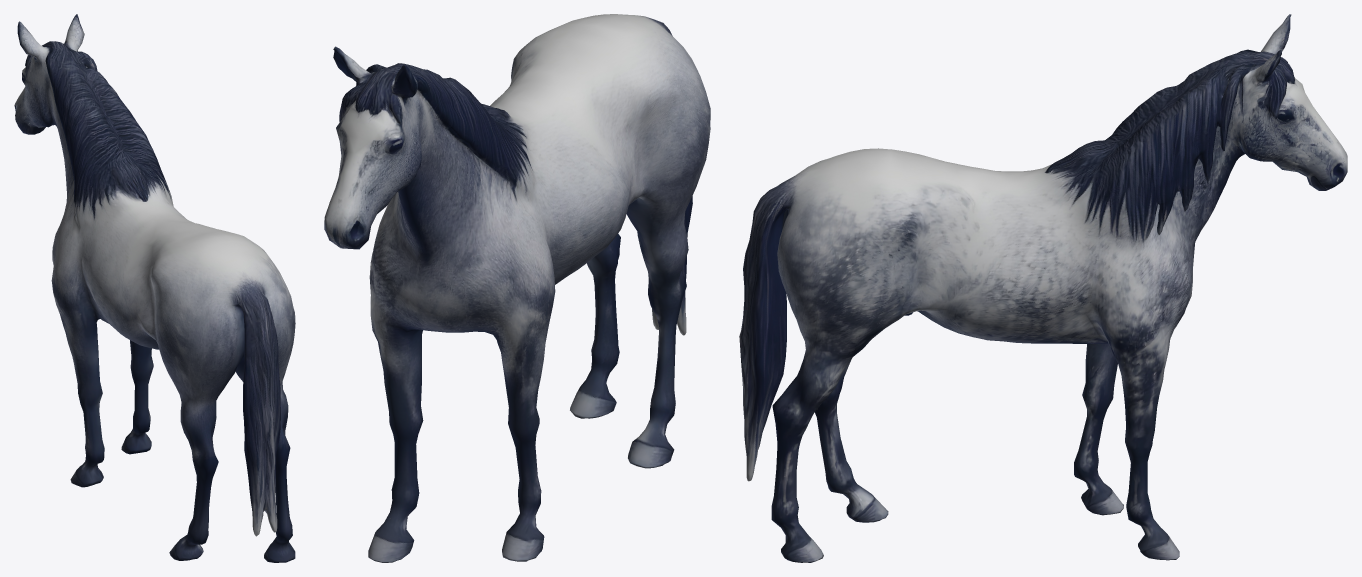
3 views of the same model, side by side, from view 1: azimuth 30°, elevation 25°; view 2: azimuth 150°, elevation 25°; view 3: azimuth 270°, elevation 25° (orthographic). The views are drawn at different scales.
Parts seen in each view (by area): view 1: tripo_node_4943546c-723b-4181-b05e-ca7a1a50546d; view 2: tripo_node_4943546c-723b-4181-b05e-ca7a1a50546d; view 3: tripo_node_4943546c-723b-4181-b05e-ca7a1a50546d.
Part boxes in pixels (x1=…): tripo_node_4943546c-723b-4181-b05e-ca7a1a50546d: x1=14, y1=14, x2=295, y2=562; tripo_node_4943546c-723b-4181-b05e-ca7a1a50546d: x1=324, y1=14, x2=710, y2=562; tripo_node_4943546c-723b-4181-b05e-ca7a1a50546d: x1=739, y1=14, x2=1347, y2=562.
Bounding box in the file's own units: 0.2871 × 0.9121 × 0.998.
1 material, 1 textured.
